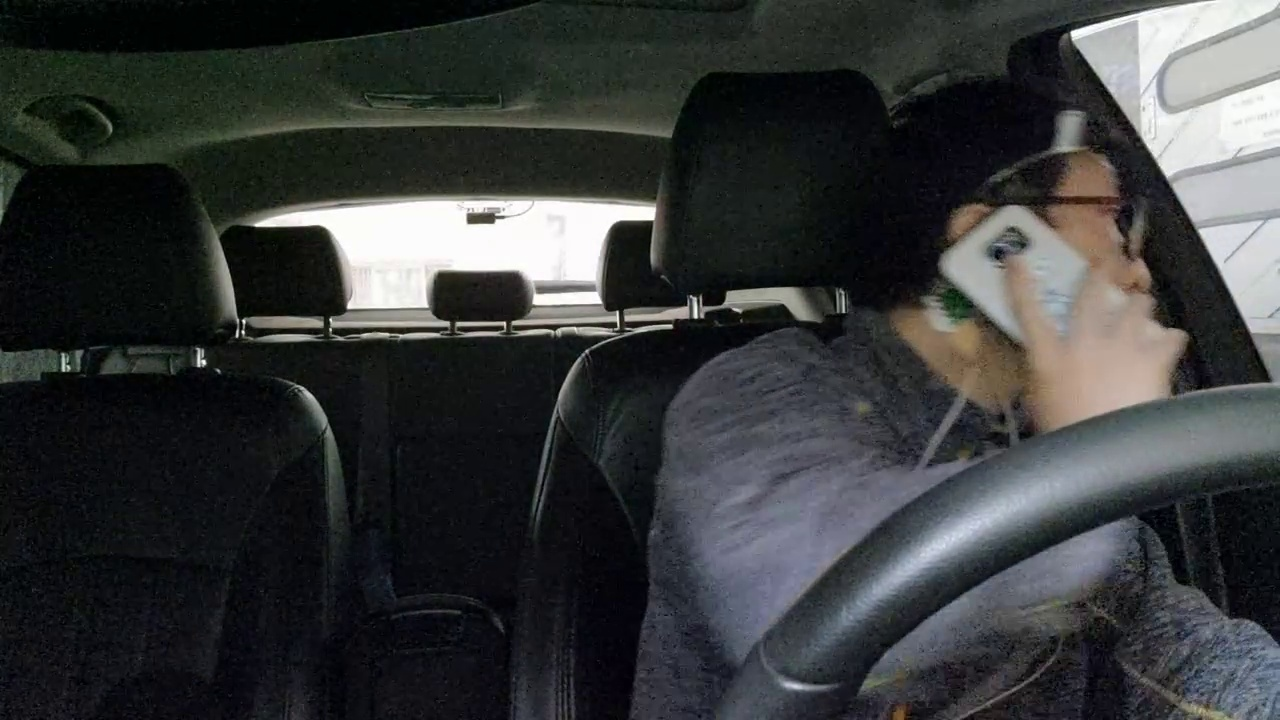phone: (925, 169, 1147, 421)
